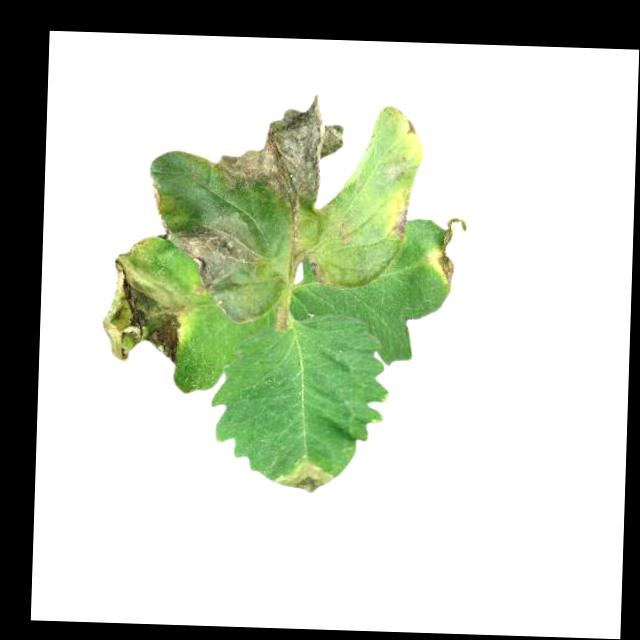Late_blight: (226, 90, 343, 210), (95, 239, 190, 363), (162, 213, 264, 322), (430, 212, 469, 286), (274, 460, 335, 496), (142, 181, 165, 227), (389, 200, 413, 242), (305, 259, 330, 286)
